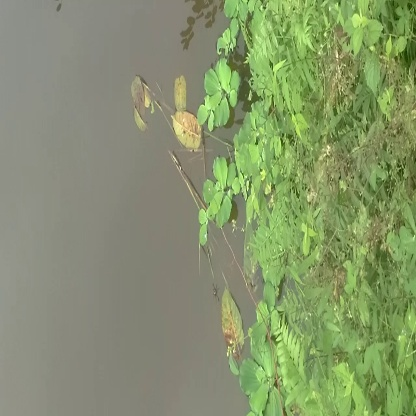leaf: (131, 78, 209, 159)
